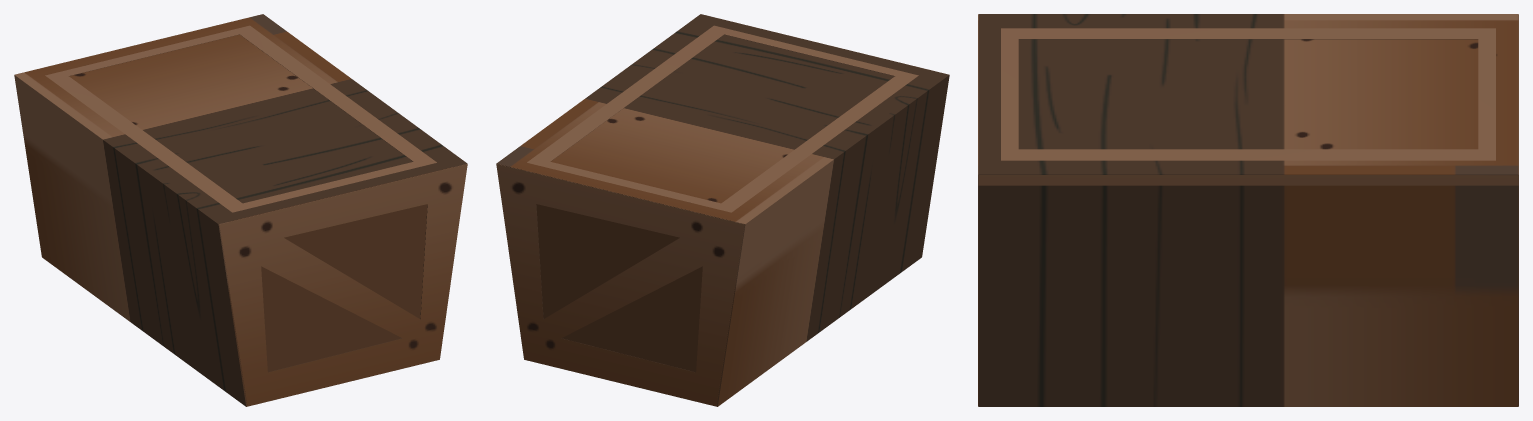
The model's file is saacrate.dae.
3 renders of one model, left to right at view 1: azimuth 30°, elevation 25°; view 2: azimuth 150°, elevation 25°; view 3: azimuth 270°, elevation 25°, orthographic. The views are drawn at different scales.
Parts seen in each view (by area): view 1: CrateConvex, Crate; view 2: CrateConvex, Crate; view 3: CrateConvex, Crate.
Boxes of the visible parts, x1=… form: CrateConvex: x1=14, y1=14, x2=467, y2=406; Crate: x1=45, y1=25, x2=467, y2=406; CrateConvex: x1=496, y1=14, x2=949, y2=406; Crate: x1=496, y1=25, x2=918, y2=406; CrateConvex: x1=978, y1=14, x2=1518, y2=406; Crate: x1=978, y1=15, x2=1518, y2=405.
Size of the model in its own units: 7.03 by 5.11 by 10.
